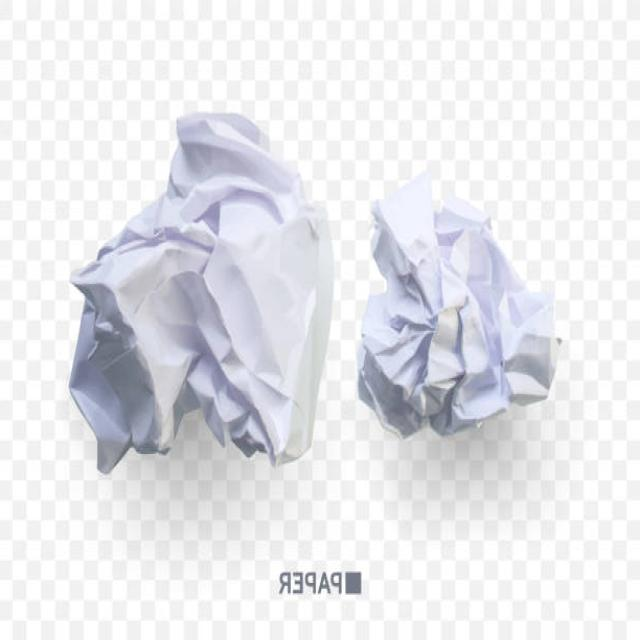paper: (55, 91, 334, 524), (344, 164, 580, 471)
